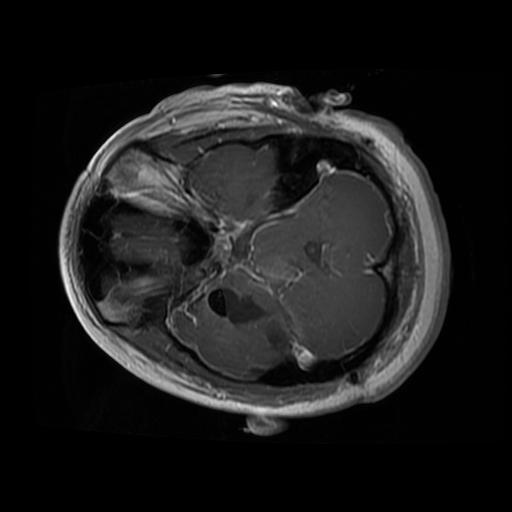glioma: (205, 284, 265, 323)
